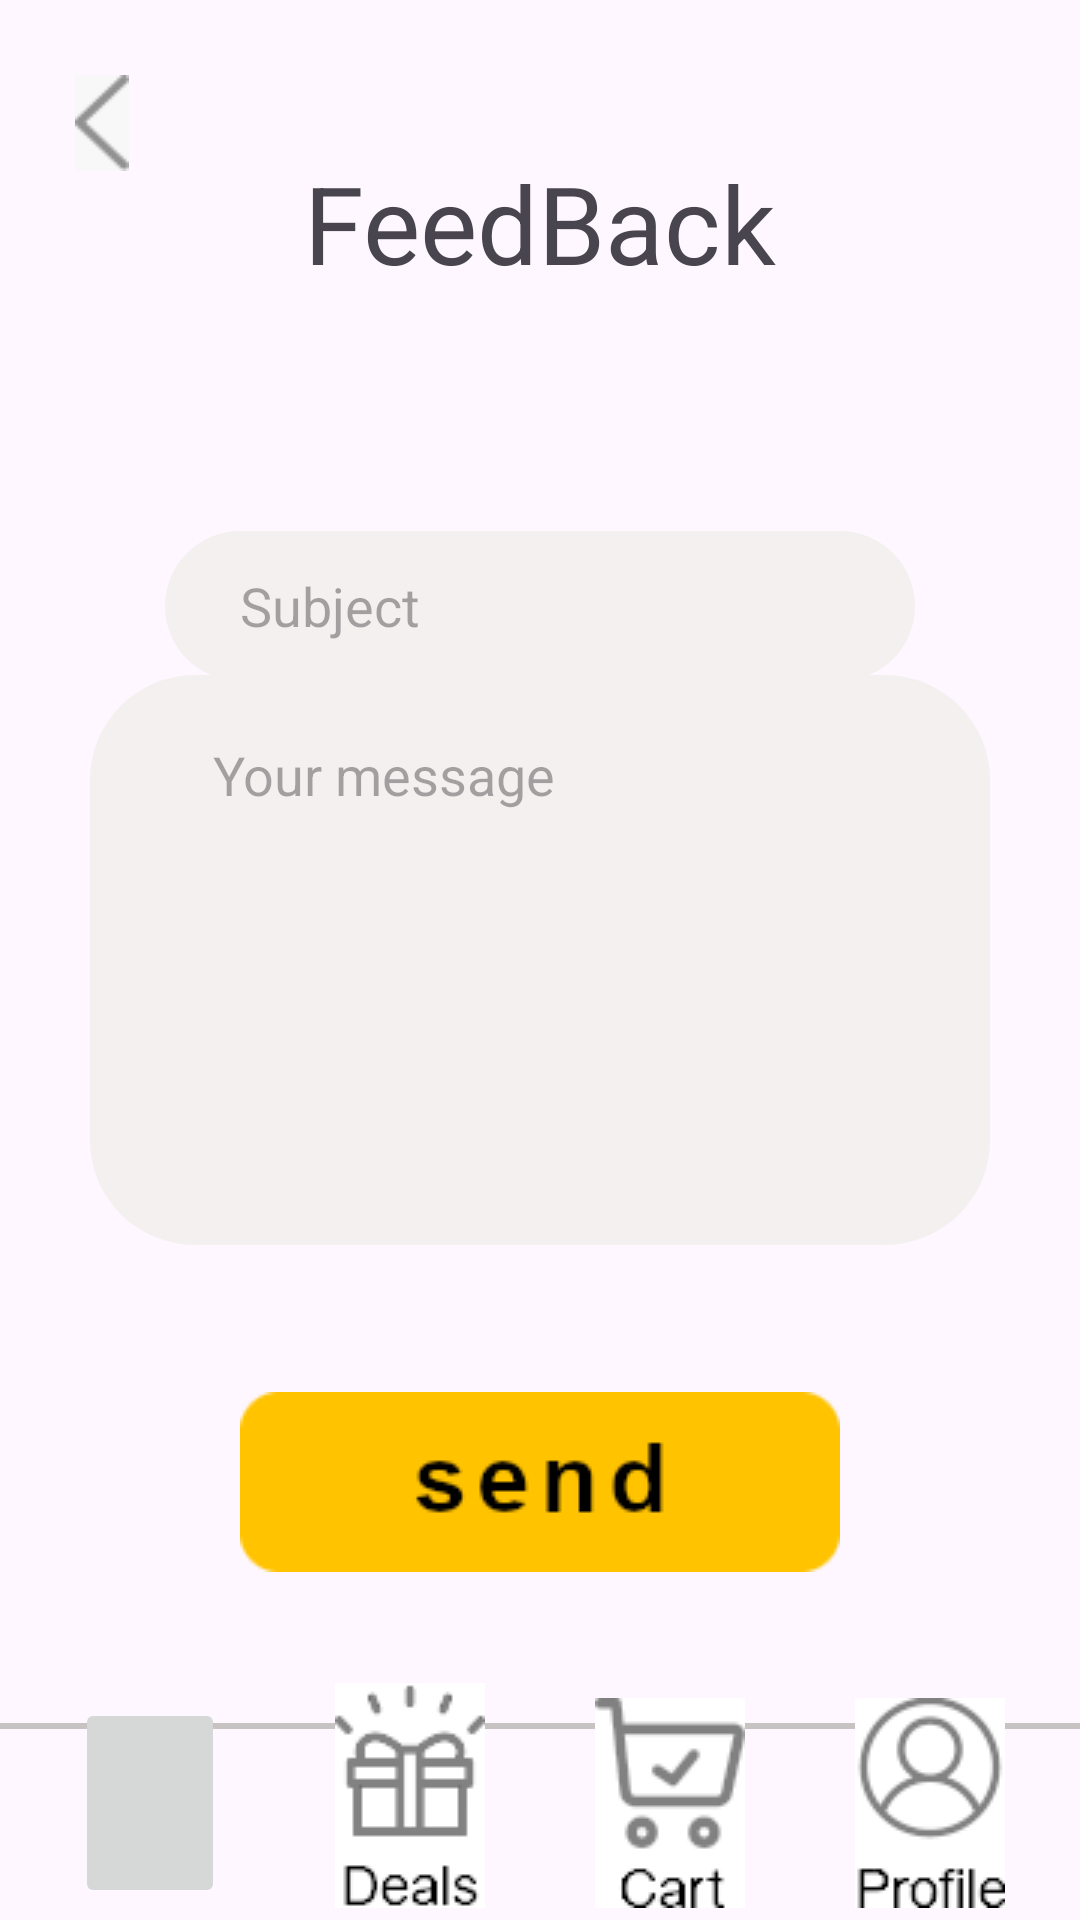

Where icons sit on this 1080w x 1920h app screen, as {"left": x1, "top": y1, "right": x2, "bottom": y2}:
back: {"left": 75, "top": 75, "right": 129, "bottom": 171}
